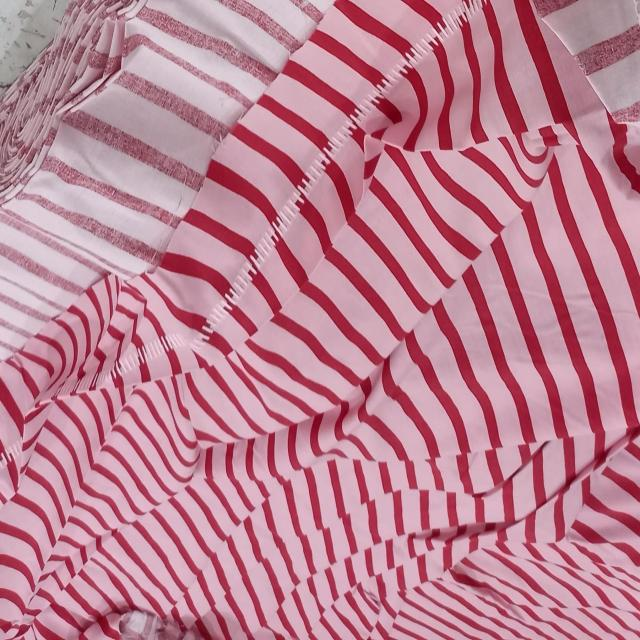gray stitch: (230, 129, 348, 292), (50, 299, 230, 393), (350, 2, 480, 121)
